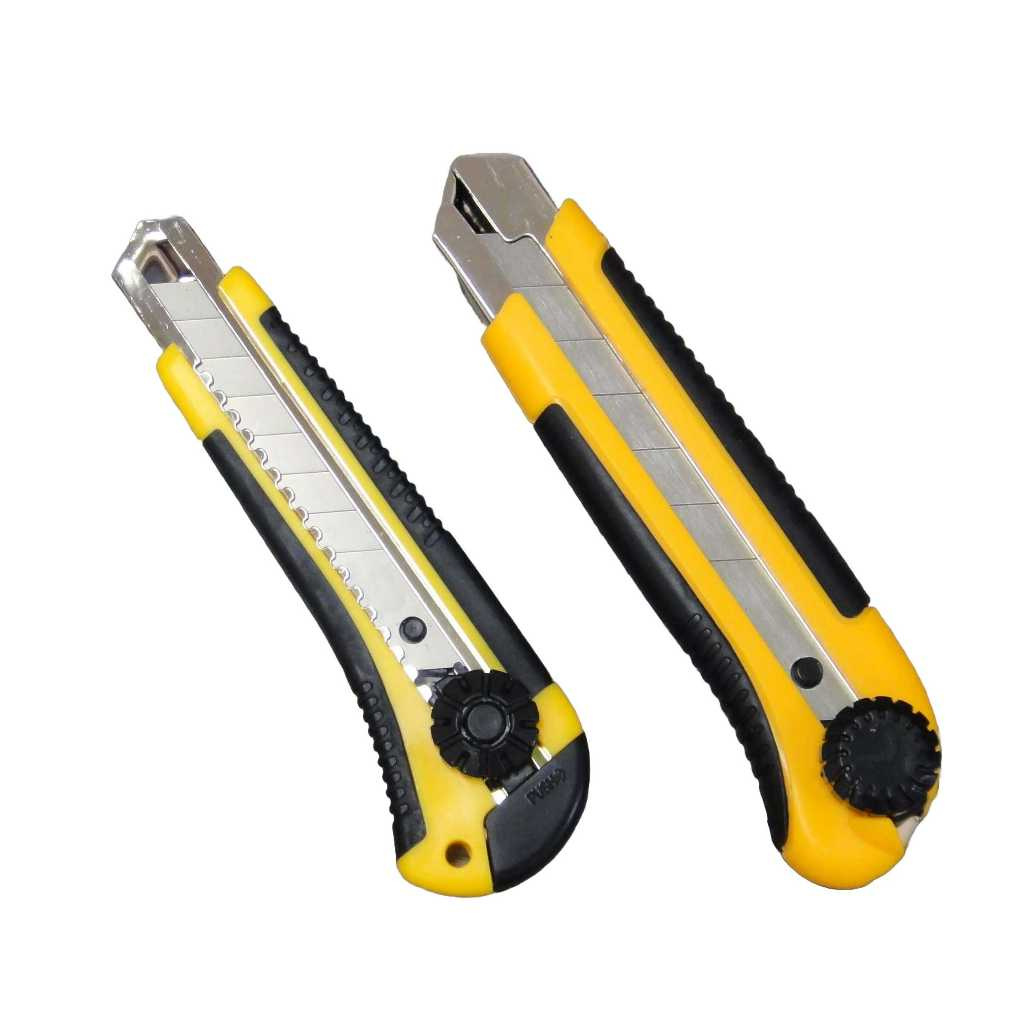cutter: (433, 150, 943, 890), (109, 230, 591, 900)
